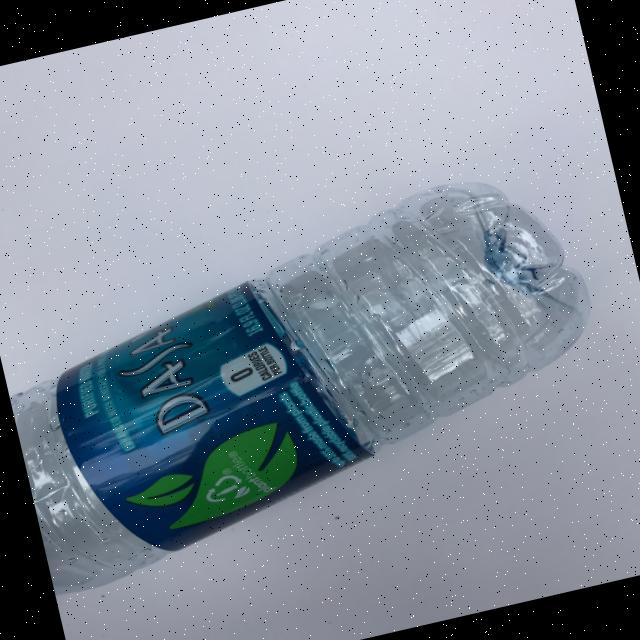plastic: (0, 156, 628, 596)
